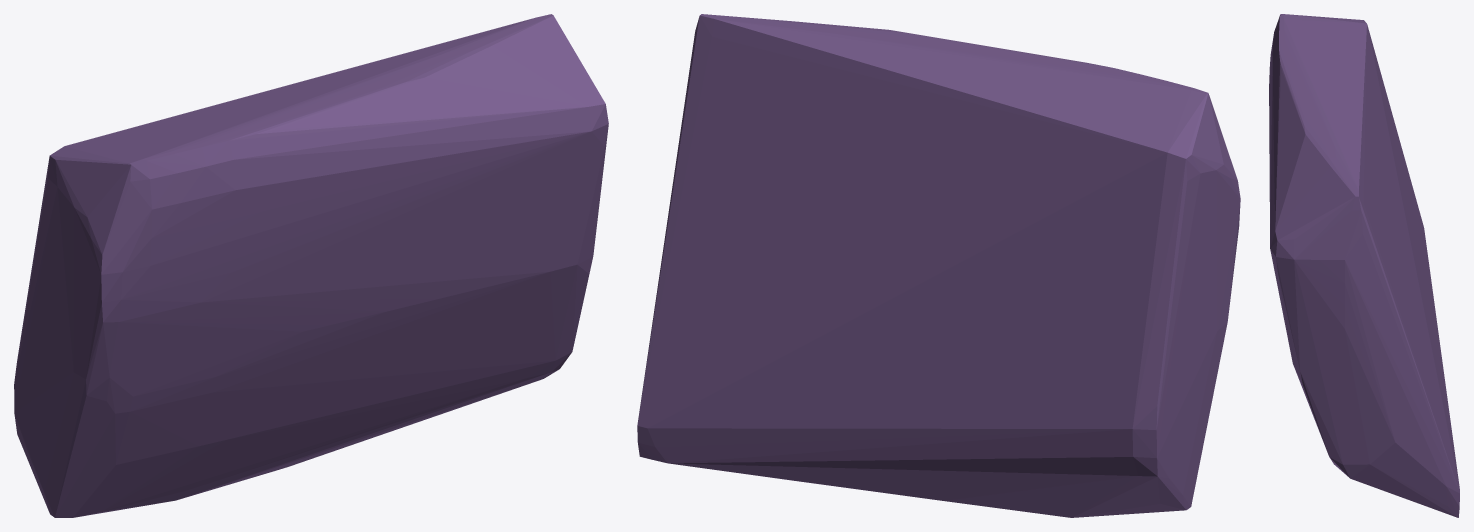
Rendered from left-hip-roll-0_part_1.obj.
3 views of the same model, side by side, from view 1: azimuth 30°, elevation 25°; view 2: azimuth 150°, elevation 25°; view 3: azimuth 270°, elevation 25° (orthographic). The views are drawn at different scales.
Bounding box in the file's own units: 0.0264 × 0.0199 × 0.0106.
